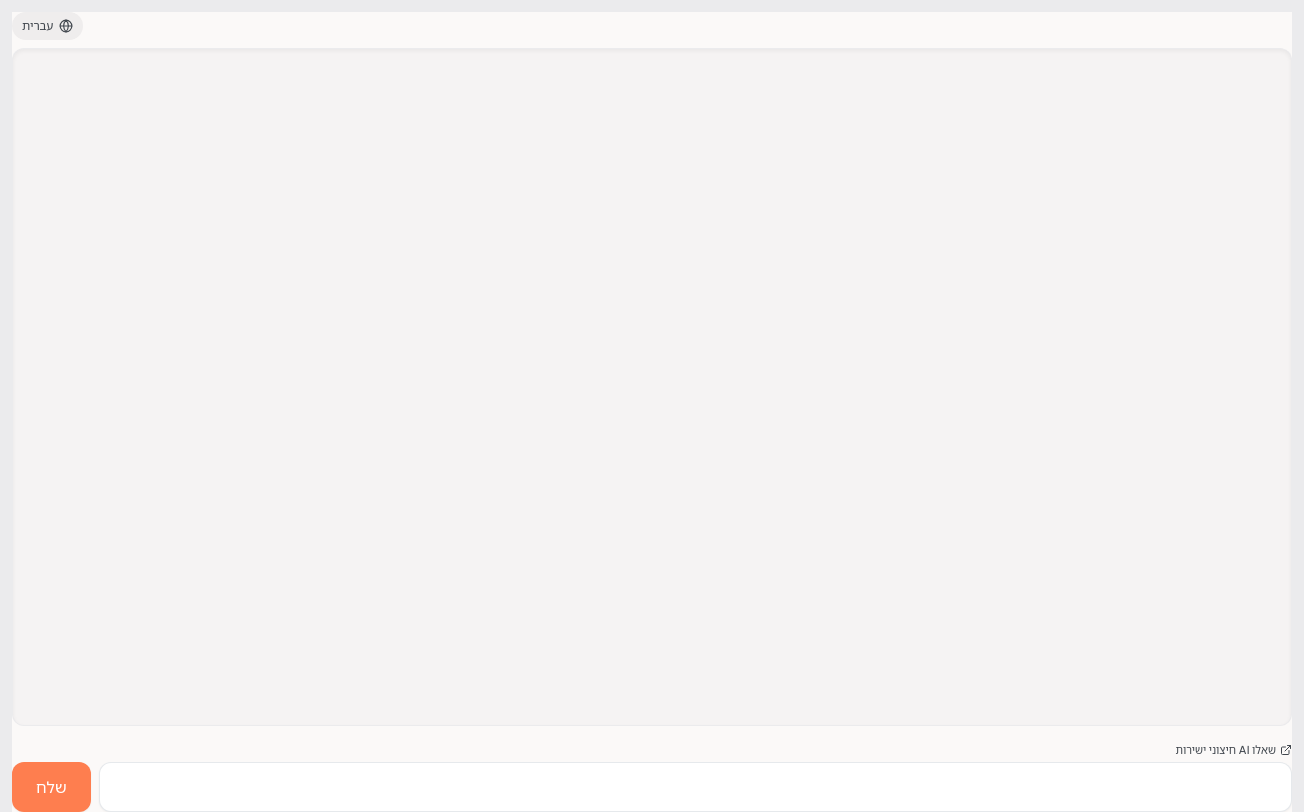
Test: ChatPanel › proactive 'ask externally' toggle › asks for text instead of showing links when the draft is empty
Click the button "שאלו AI חיצוני ישירות" at (1234, 750), box x1=1175 y1=742 x2=1292 y2=758
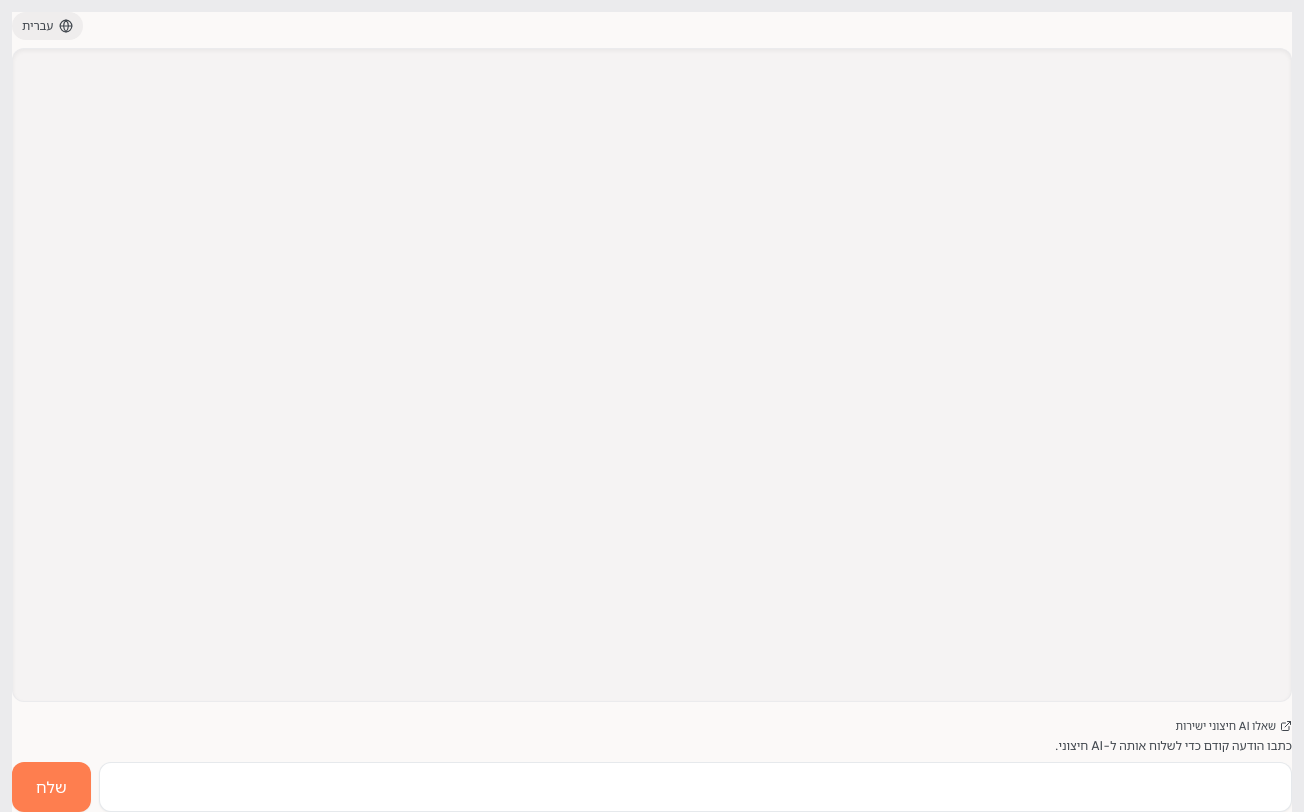
Expected: the text "כתבו הודעה קודם כדי לשלוח אותה ל-AI חיצוני." is shown, x1=1055 y1=738 x2=1292 y2=753
